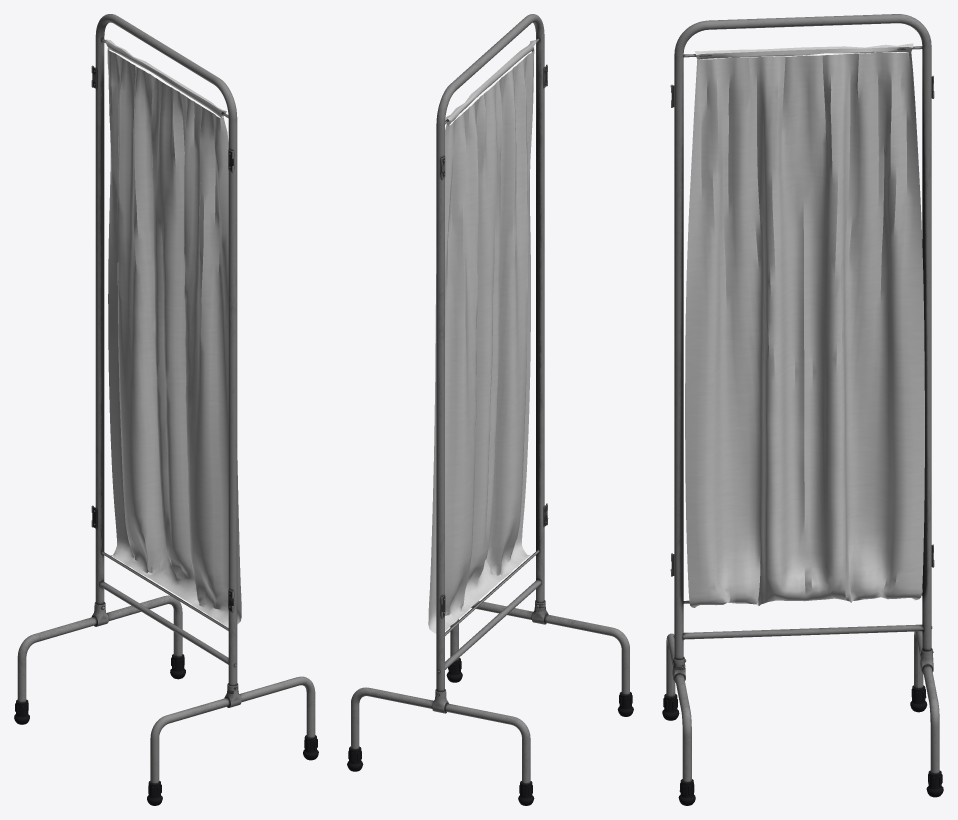
Rendered from curtain-emergency.fbx.
The picture shows the model from 3 angles, left to right: view 1: azimuth 30°, elevation 25°; view 2: azimuth 150°, elevation 25°; view 3: azimuth 270°, elevation 25°; orthographic projection. The views are drawn at different scales.
Visible parts, largest first — view 1: Object_0_remesh__0, Object_1__0, Object_6__0; view 2: Object_0_remesh__0, Object_1__0, Object_6__0; view 3: Object_0_remesh__0, Object_1__0, Object_6__0.
Part boxes in pixels (<box>): Object_0_remesh__0: <box>105,39,241,627</box>; Object_1__0: <box>91,14,241,707</box>; Object_6__0: <box>14,595,318,805</box>; Object_0_remesh__0: <box>428,40,535,633</box>; Object_1__0: <box>432,14,548,713</box>; Object_6__0: <box>347,601,633,805</box>; Object_0_remesh__0: <box>685,43,924,607</box>; Object_1__0: <box>670,14,934,682</box>; Object_6__0: <box>662,631,943,805</box>.
Bounding box in the file's own units: 56.89 × 48.29 × 165.
Materials: 1 (1 with a texture image).
